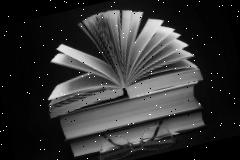paper: (58, 82, 202, 140), (68, 110, 206, 158)
